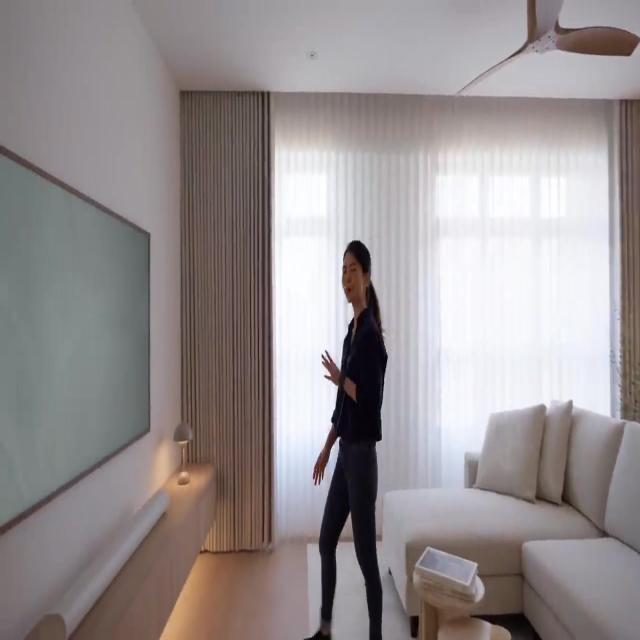obstacle: (381, 398, 639, 638)
person: (302, 239, 388, 639)
